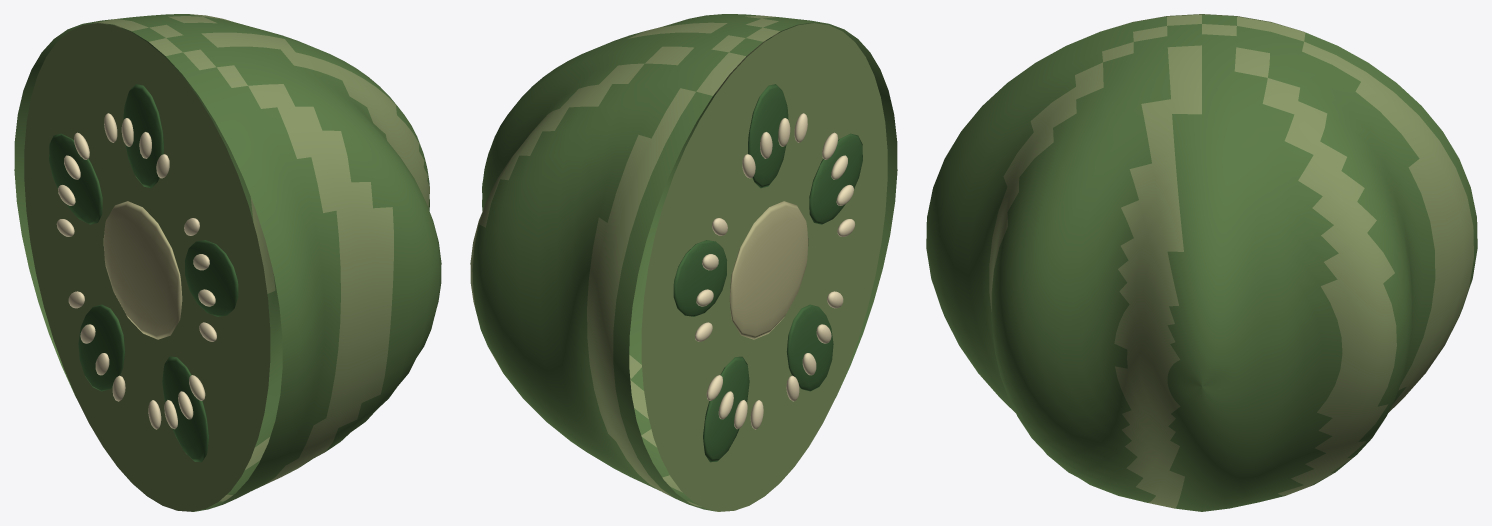
File: event_rainbow_sage_half.glb
3 renders of one model, left to right at view 1: azimuth 30°, elevation 25°; view 2: azimuth 150°, elevation 25°; view 3: azimuth 270°, elevation 25°, orthographic. The views are drawn at different scales.
Parts seen in each view (by area): view 1: sage archive sage heirloom skin / Sage pale longitudinal pin, sage archive sage moist cut flesh, sage archive sage seed chambers, sage archive sage pale pith, sage archive Ivory archive seeds; view 2: sage archive sage heirloom skin / Sage pale longitudinal pin, sage archive sage moist cut flesh, sage archive sage seed chambers, sage archive sage pale pith, sage archive Ivory archive seeds; view 3: sage archive sage heirloom skin / Sage pale longitudinal pin.
Boxes of the visible parts, x1,y1,x2,y2 form: sage archive sage heirloom skin / Sage pale longitudinal pin: (14, 14, 441, 511); sage archive sage moist cut flesh: (24, 23, 270, 511); sage archive sage seed chambers: (49, 84, 238, 462); sage archive sage pale pith: (103, 201, 182, 339); sage archive Ivory archive seeds: (56, 113, 216, 429); sage archive sage heirloom skin / Sage pale longitudinal pin: (470, 14, 897, 511); sage archive sage moist cut flesh: (641, 23, 887, 511); sage archive sage seed chambers: (673, 84, 862, 462); sage archive sage pale pith: (729, 201, 808, 339); sage archive Ivory archive seeds: (695, 113, 855, 429); sage archive sage heirloom skin / Sage pale longitudinal pin: (926, 14, 1477, 511).
Size of the model in its own units: 0.7287 by 1.08 by 1.16.
